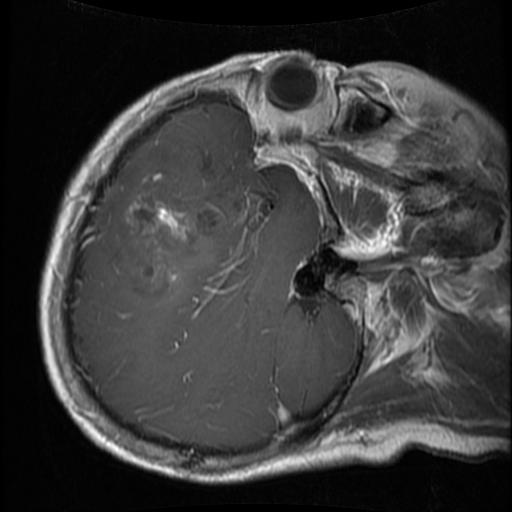glioma: (109, 173, 229, 304)
